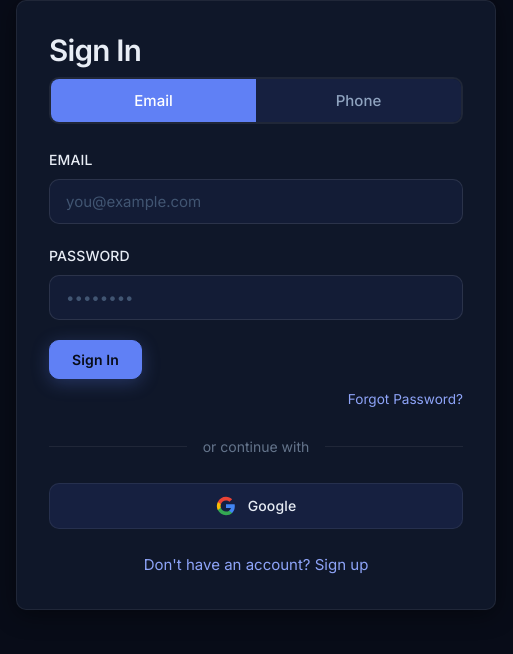
Test: Login Page › Email Login › shows validation error for empty email
The image size is (513, 654).
Type "password1" into the password field labelled "Password" at (256,297), box left=49, top=275, right=463, bottom=320
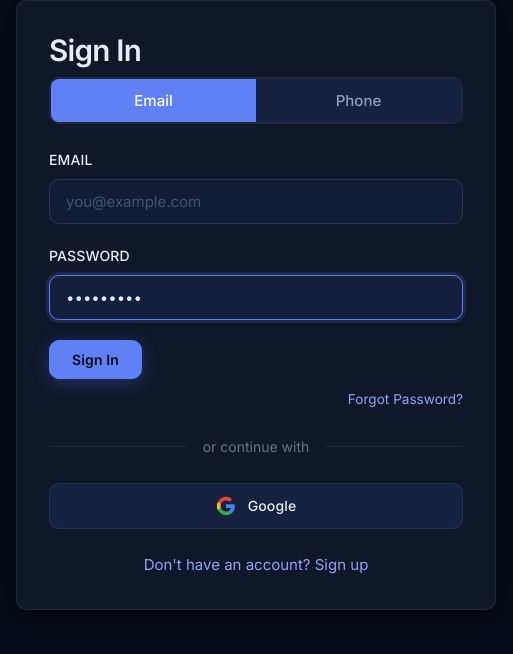
Click the button "Sign In" at (96,359), box left=49, top=340, right=142, bottom=379
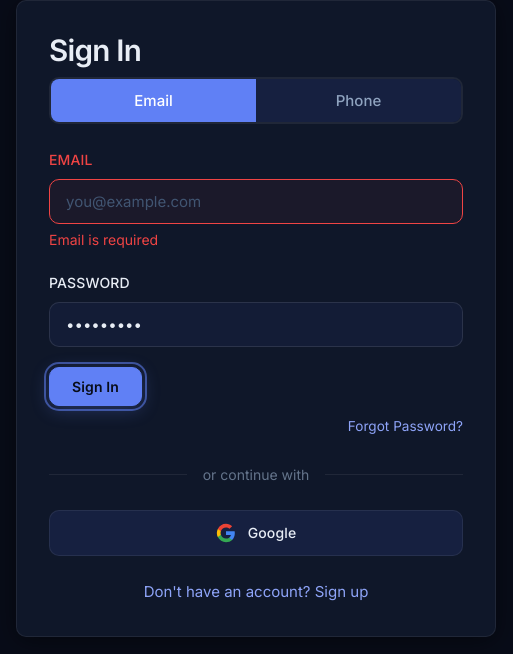
Expected: the text "Email is required" is shown, left=49, top=231, right=158, bottom=248
